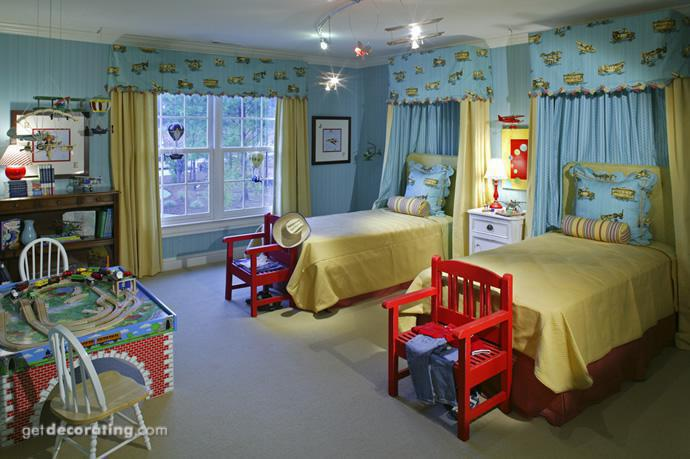Cama: (411, 165, 688, 405), (278, 160, 466, 324)
Sanitario: (46, 320, 156, 455)
Ventana: (147, 83, 280, 225)
